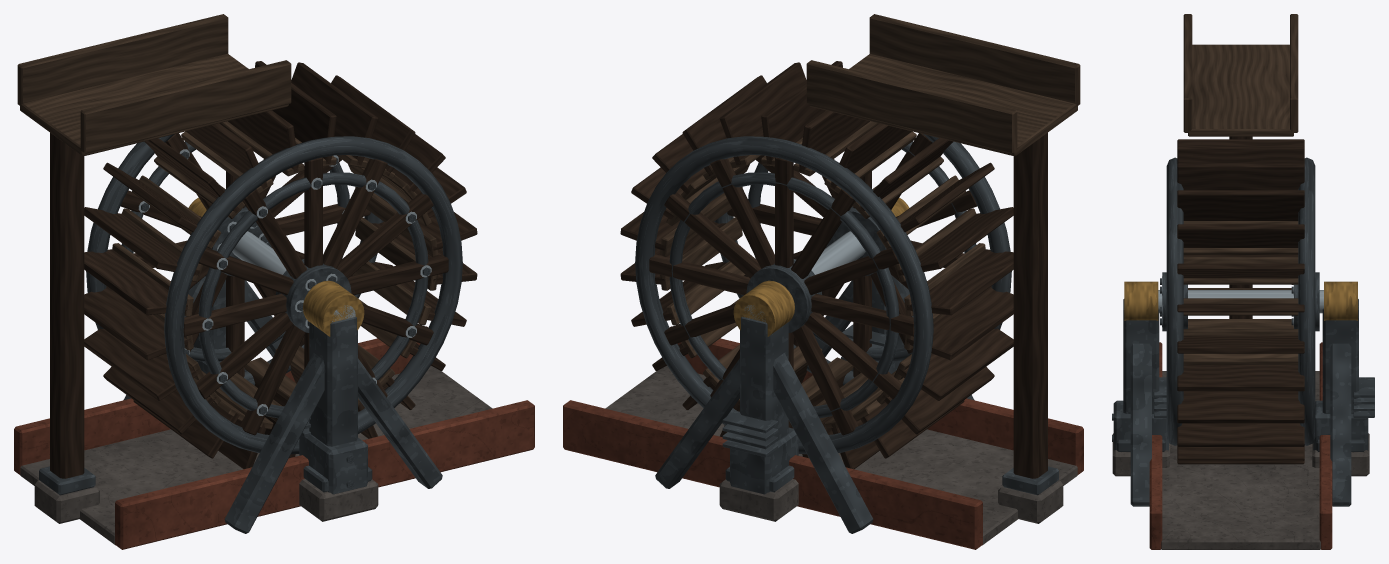
3 renders of one model, left to right at view 1: azimuth 30°, elevation 25°; view 2: azimuth 150°, elevation 25°; view 3: azimuth 270°, elevation 25°, orthographic. The views are drawn at different scales.
Parts seen in each view (by area): view 1: quarter-sawn-timber (×2), gunmetal-cast-iron (×2), exposed-end-grain (×2), fired-foundry-brick, foundry-slag-brick, machined-bearing-steel (×2), aged-bronze; view 2: quarter-sawn-timber (×2), gunmetal-cast-iron (×2), exposed-end-grain (×2), fired-foundry-brick, foundry-slag-brick, aged-bronze, machined-bearing-steel; view 3: quarter-sawn-timber, gunmetal-cast-iron (×2), exposed-end-grain (×2), foundry-slag-brick, fired-foundry-brick, aged-bronze, machined-bearing-steel.
Boxes of the visible parts, x1,y1,x2,y2 form: quarter-sawn-timber (×2): (50,61,477,478); gunmetal-cast-iron (×2): (39,134,462,533); exposed-end-grain (×2): (17,14,437,429); fired-foundry-brick: (14,326,534,549); foundry-slag-brick: (20,366,492,545); machined-bearing-steel (×2): (138,149,431,415); aged-bronze: (188,197,364,336); quarter-sawn-timber (×2): (620,61,1047,478); gunmetal-cast-iron (×2): (635,134,1058,533); exposed-end-grain (×2): (660,14,1080,429); fired-foundry-brick: (563,326,1083,549); foundry-slag-brick: (605,366,1077,545); aged-bronze: (733,197,909,336); machined-bearing-steel: (744,231,865,321); quarter-sawn-timber: (1177,139,1304,464); gunmetal-cast-iron (×2): (1112,157,1374,506); exposed-end-grain (×2): (1183,14,1298,364); foundry-slag-brick: (1112,371,1369,549); fired-foundry-brick: (1149,342,1332,549); aged-bronze: (1124,281,1357,320); machined-bearing-steel: (1158,290,1323,313).
Size of the model in its own units: 2 by 1.89 by 1.24.
7 materials, 7 textured.
